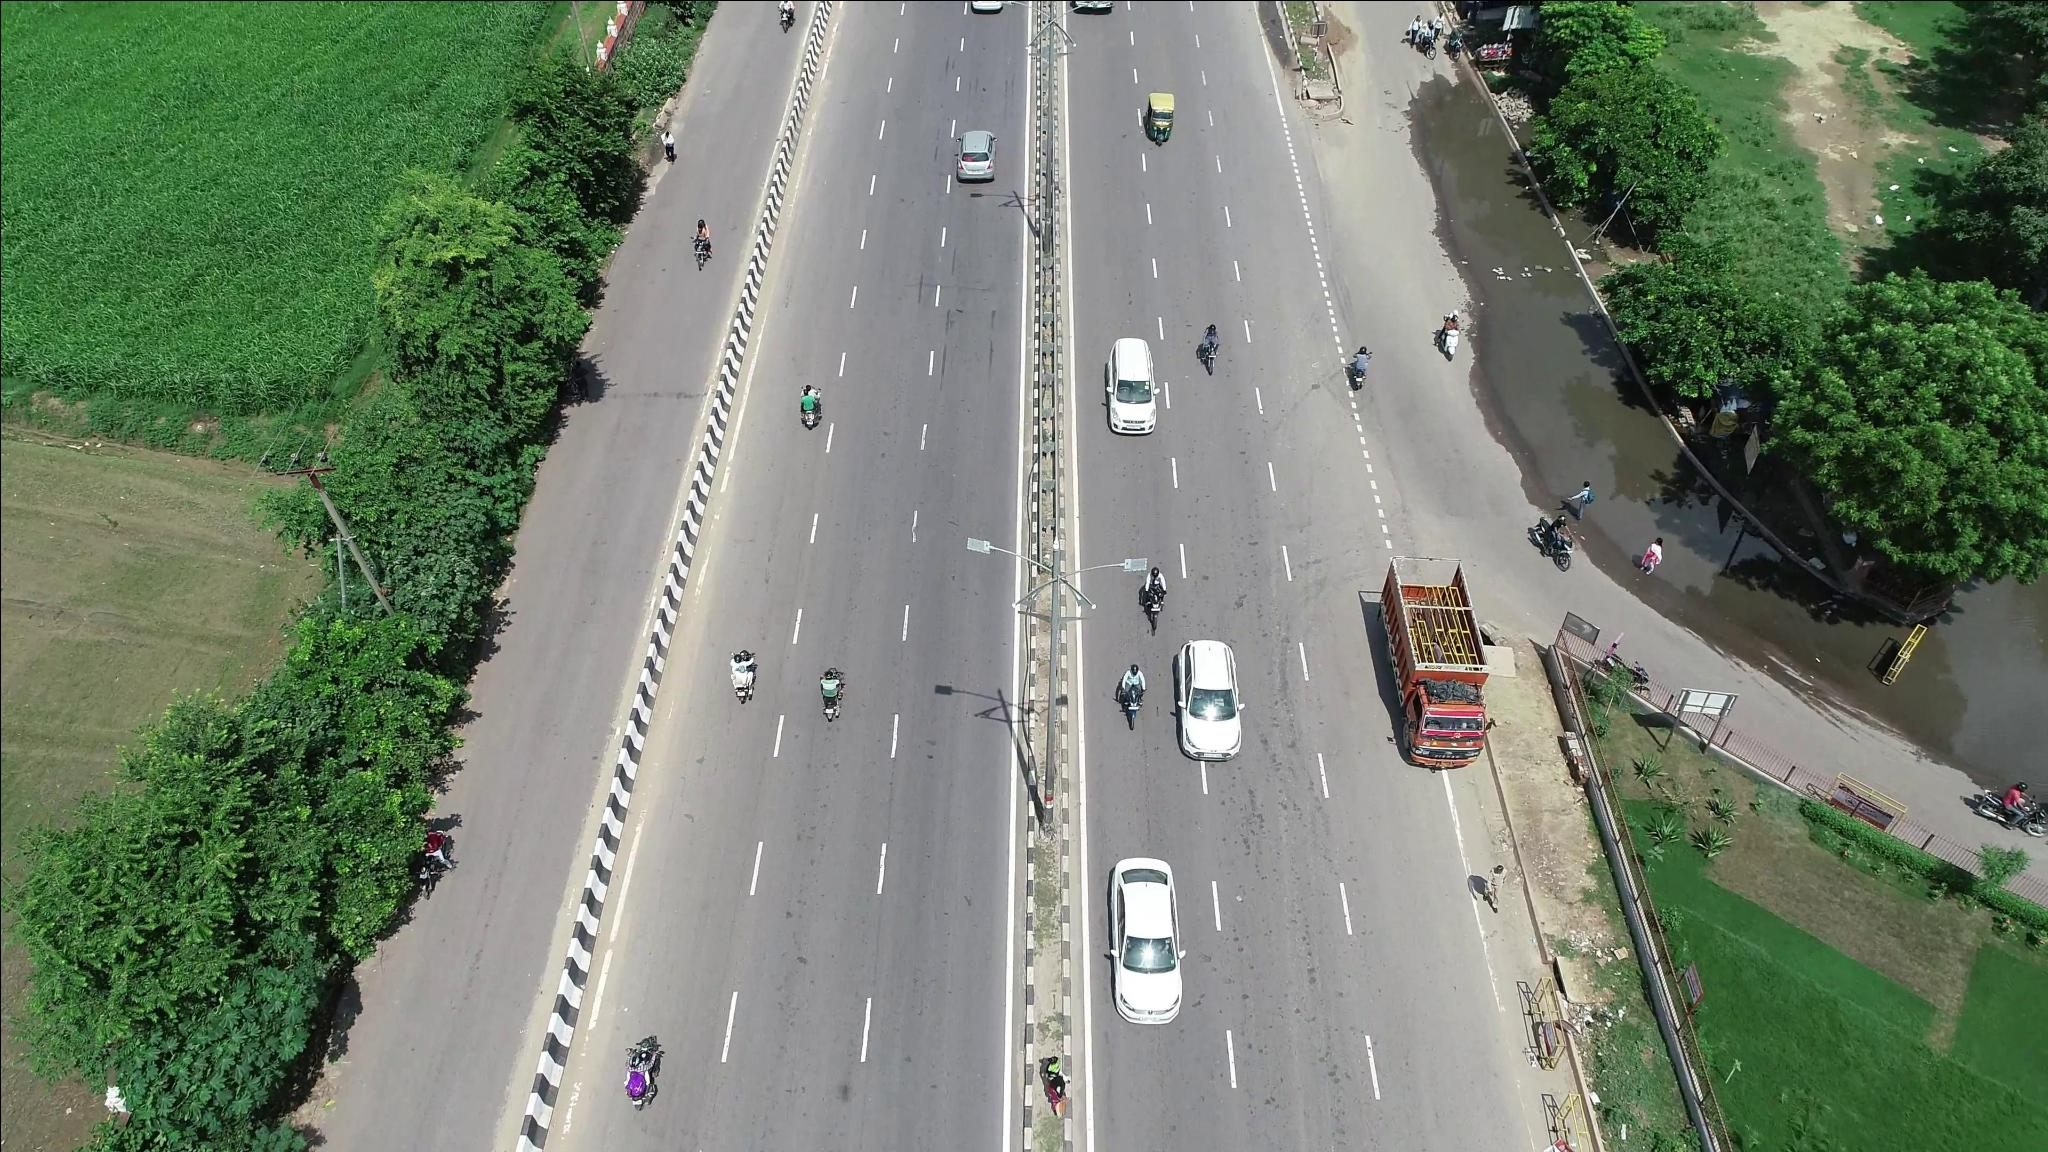Waterlogging: (1501, 339, 1678, 525), (1414, 105, 1551, 333)
